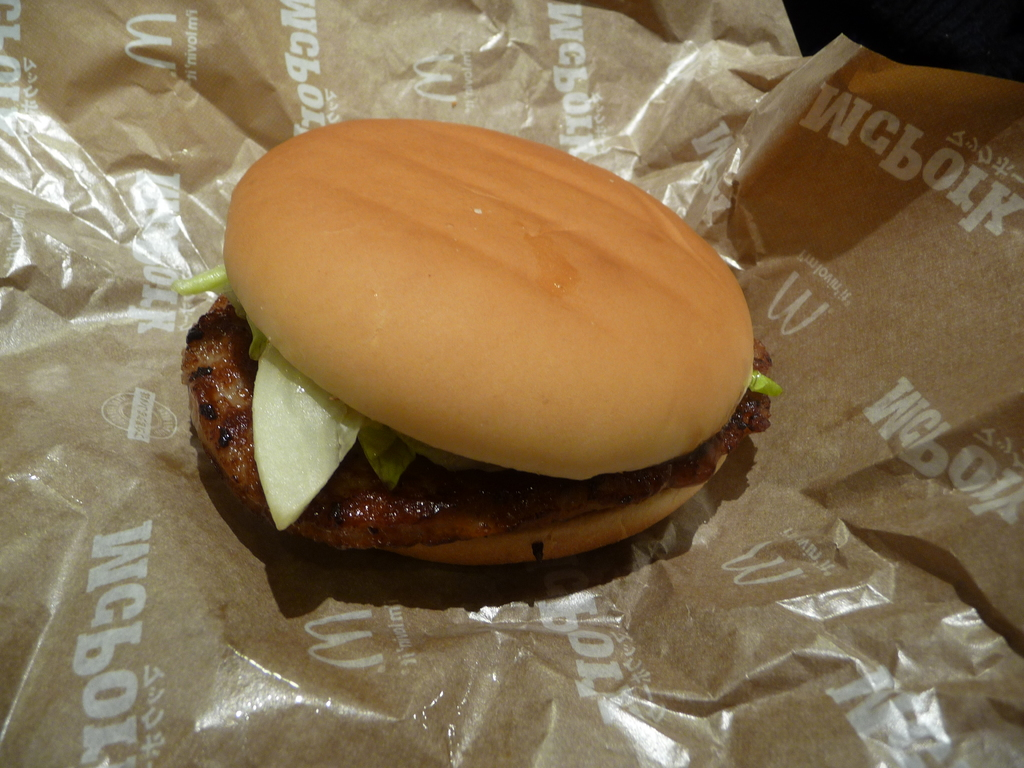Hamburger: (181, 119, 784, 565)
